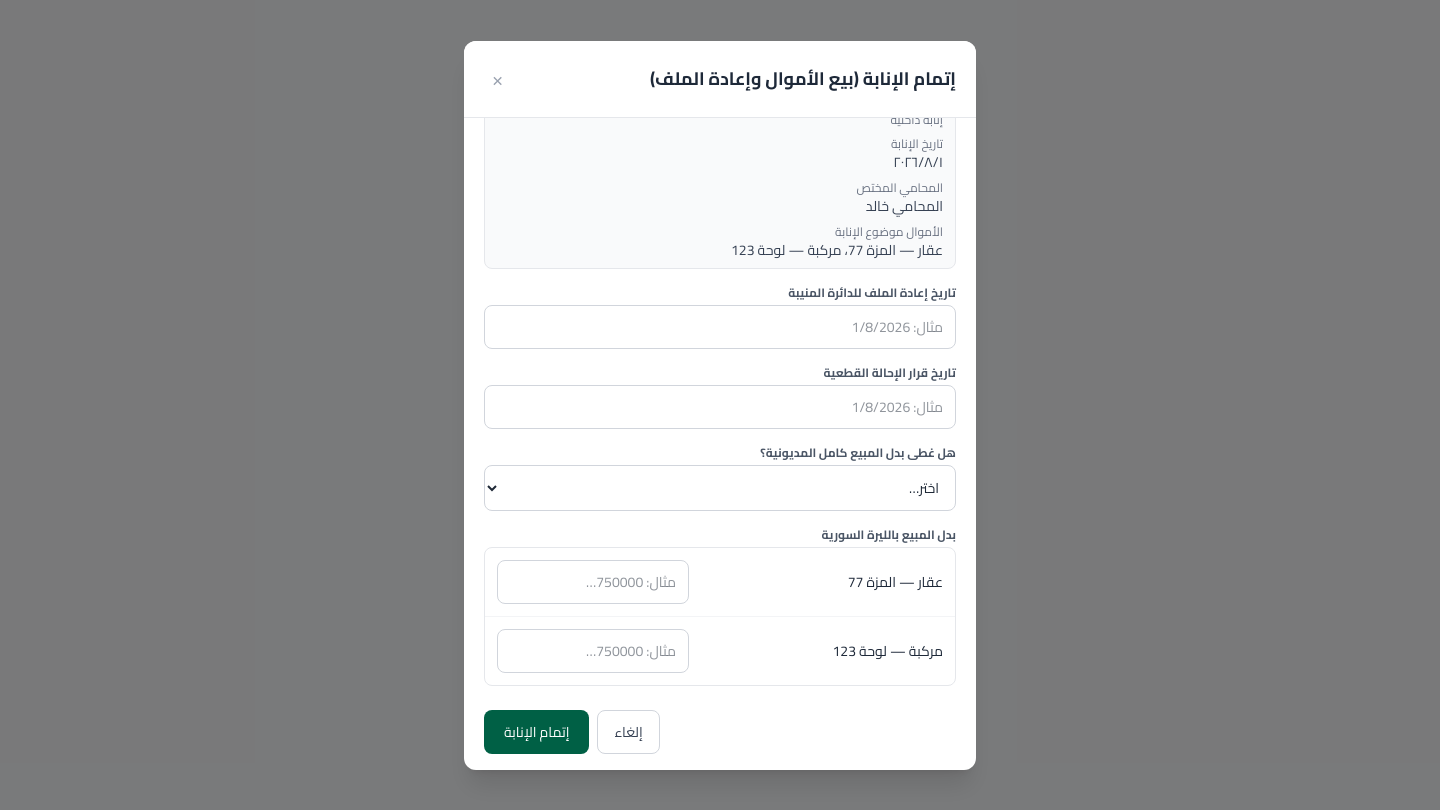
CompleteDelegationModal › يتطلب تاريخ الإعادة قبل أي شيء
The width and height of the screenshot is (1440, 810).
(page scrolled)
Click the button "إتمام الإنابة" at x=537, y=732, box top-left (484, 710), bottom-right (589, 754)
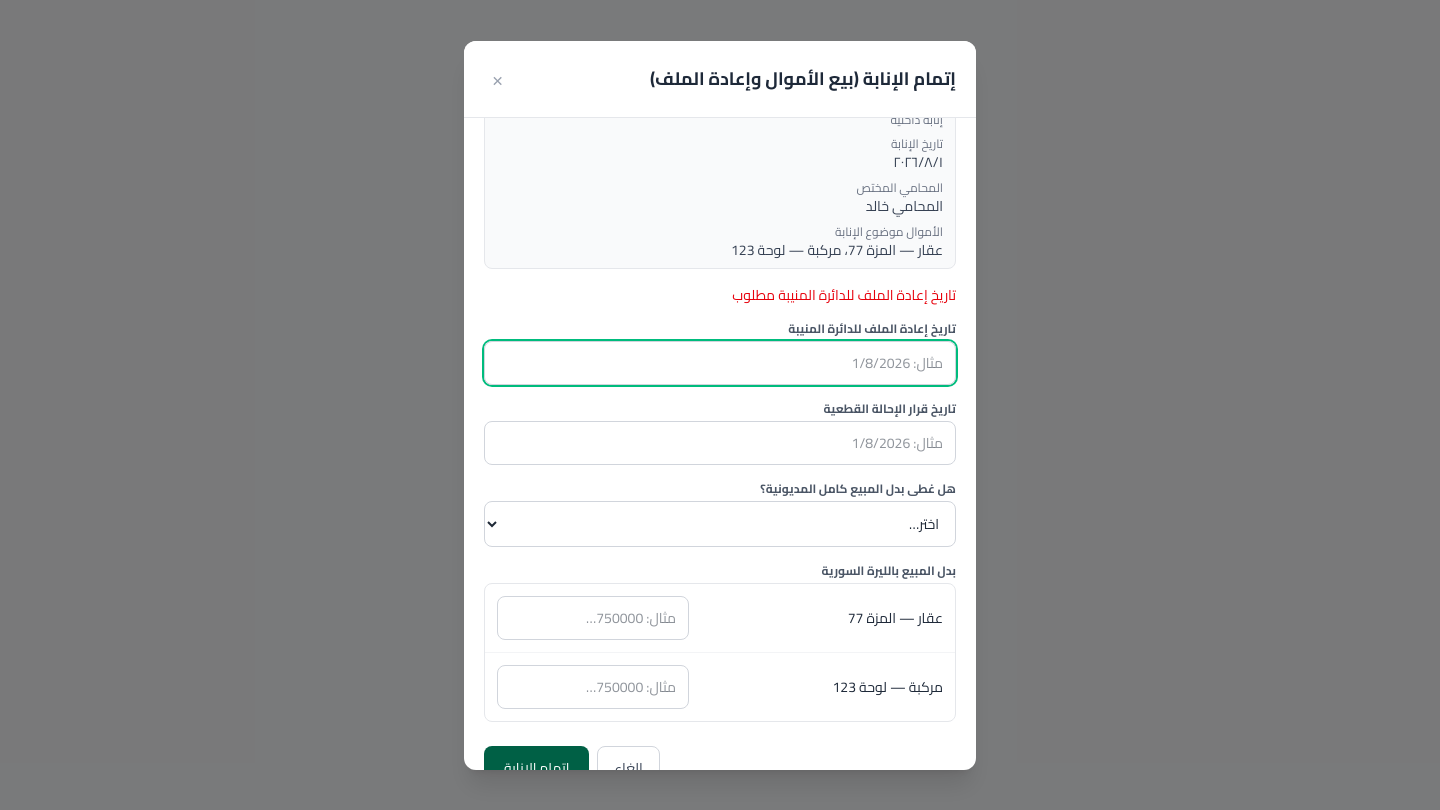
Now the message reads "تاريخ إعادة الملف للدائرة المنيبة مطلوب", box top-left (732, 282), bottom-right (956, 308)
